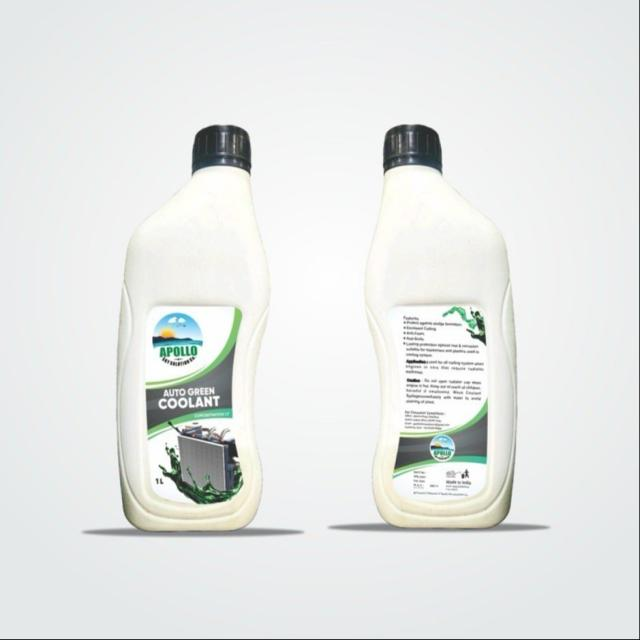coolant: (114, 120, 274, 536), (359, 119, 517, 531)
